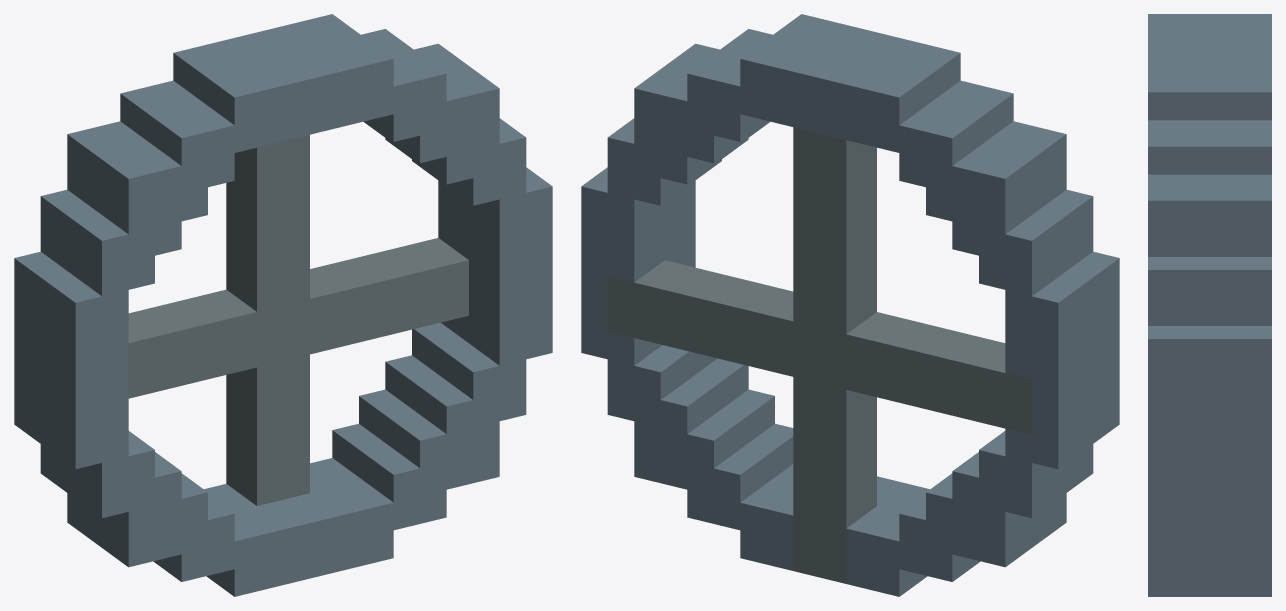
Rendered from film-06.glb.
The picture shows the model from 3 angles, left to right: view 1: azimuth 30°, elevation 25°; view 2: azimuth 150°, elevation 25°; view 3: azimuth 270°, elevation 25°; orthographic projection.
Visible parts, largest first — view 1: Film reel; view 2: Film reel; view 3: Film reel.
Part boxes in pixels (box(x1,y1,x2,y2)): Film reel: box(14, 14, 552, 596); Film reel: box(581, 14, 1119, 596); Film reel: box(1148, 14, 1271, 596).
Bounding box in the file's own units: 1.44 × 1.44 × 0.32.
